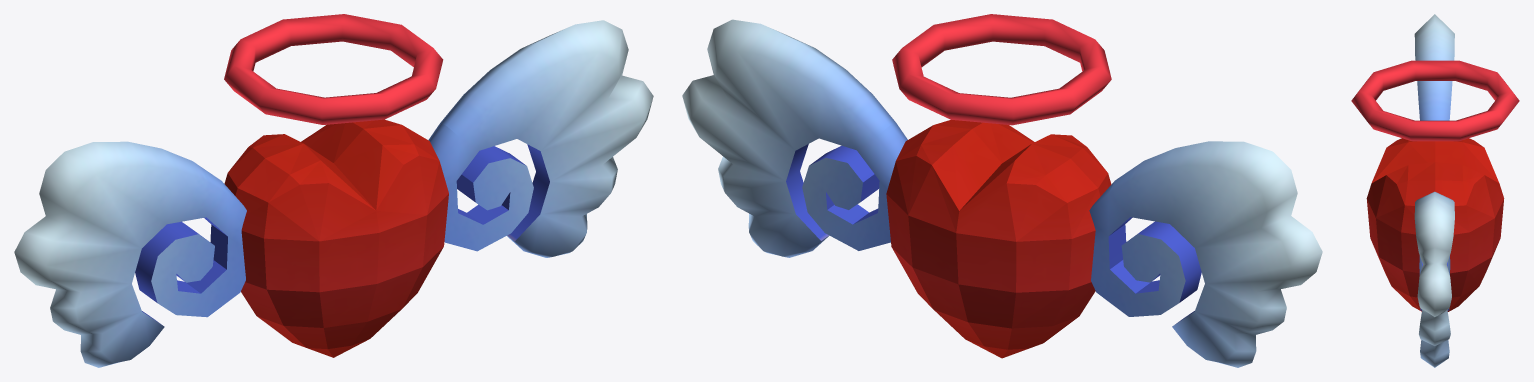
The model's file is DJ-chibang.FBX.
The picture shows the model from 3 angles, left to right: view 1: azimuth 30°, elevation 25°; view 2: azimuth 150°, elevation 25°; view 3: azimuth 270°, elevation 25°; orthographic projection. The views are drawn at different scales.
Visible parts, largest first — view 1: chibang; view 2: chibang; view 3: chibang.
Part boxes in pixels (x1,y1,x2,y2): chibang: (14,14,653,367); chibang: (682,14,1322,367); chibang: (1351,14,1519,367).
Size of the model in its own units: 151 by 67.97 by 45.88.
